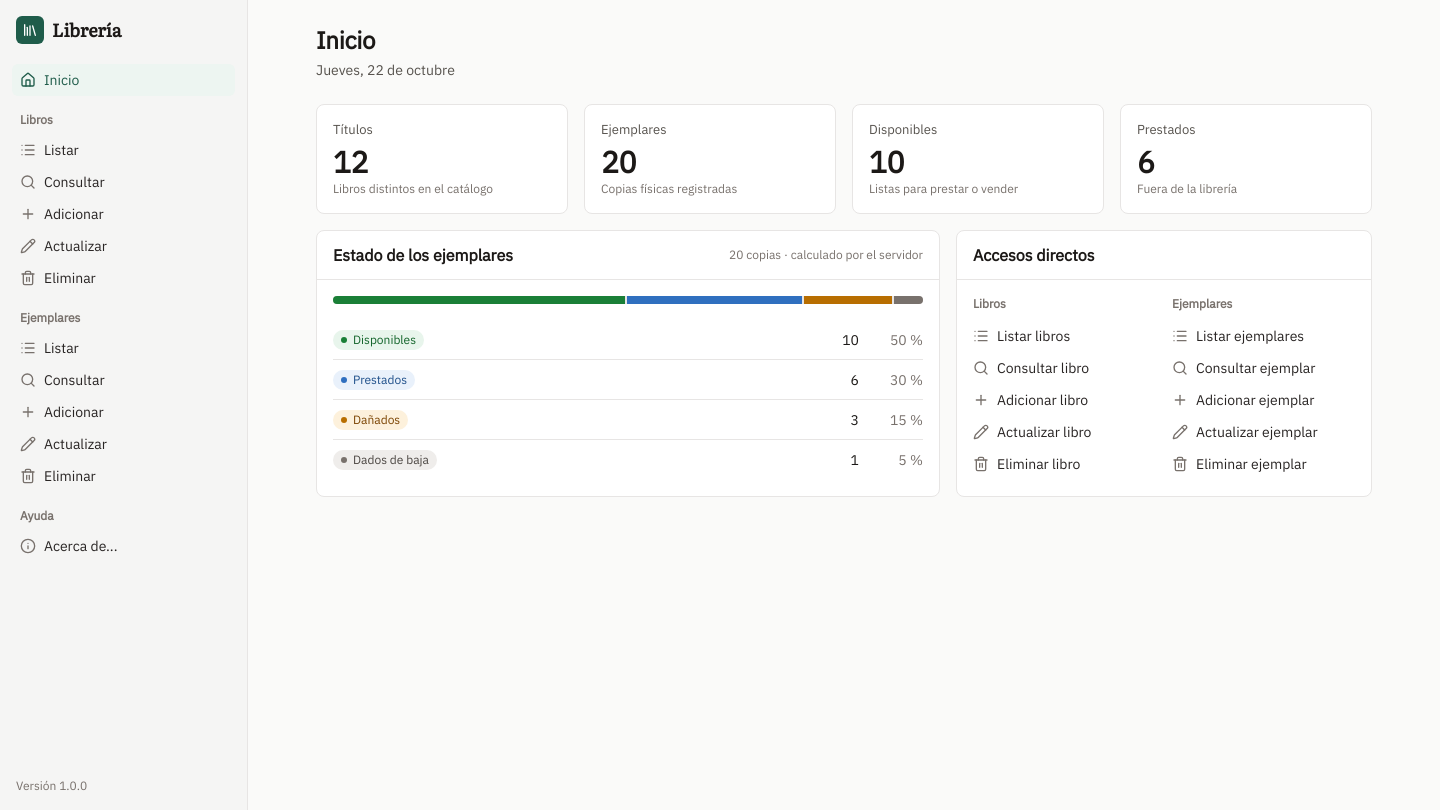
Scenario: Aplicación › tiene Ayuda > Acerca de... con los integrantes, la versión y el estado del servidor
Click the link "Acerca de..." at (69, 546), box [20,537,118,555]
(page scrolled)
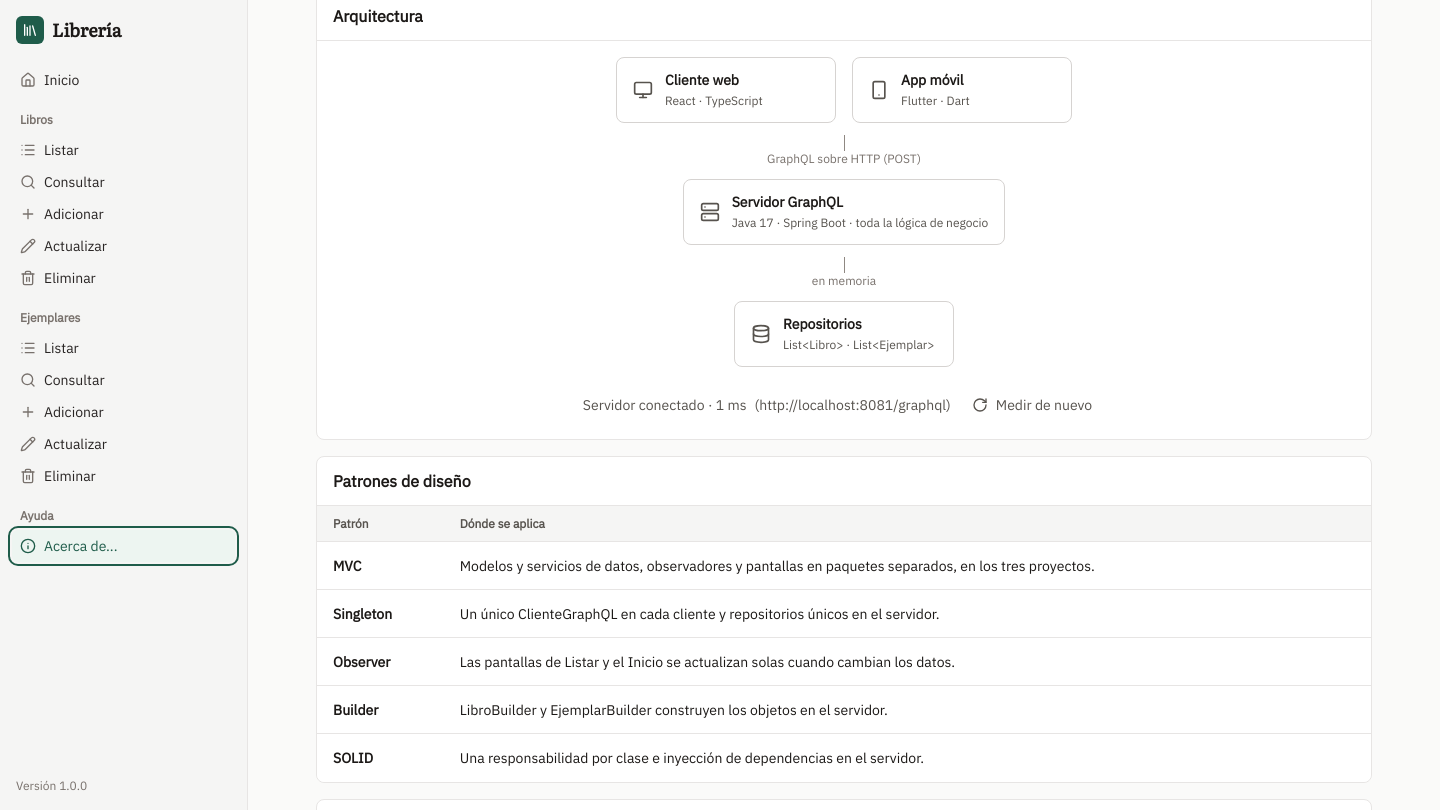
Check: the text "Servidor conectado · 1 ms" is shown, box [583,395,747,415]
Click the button "Medir de nuevo" at (1032, 405), box [959,387,1105,423]
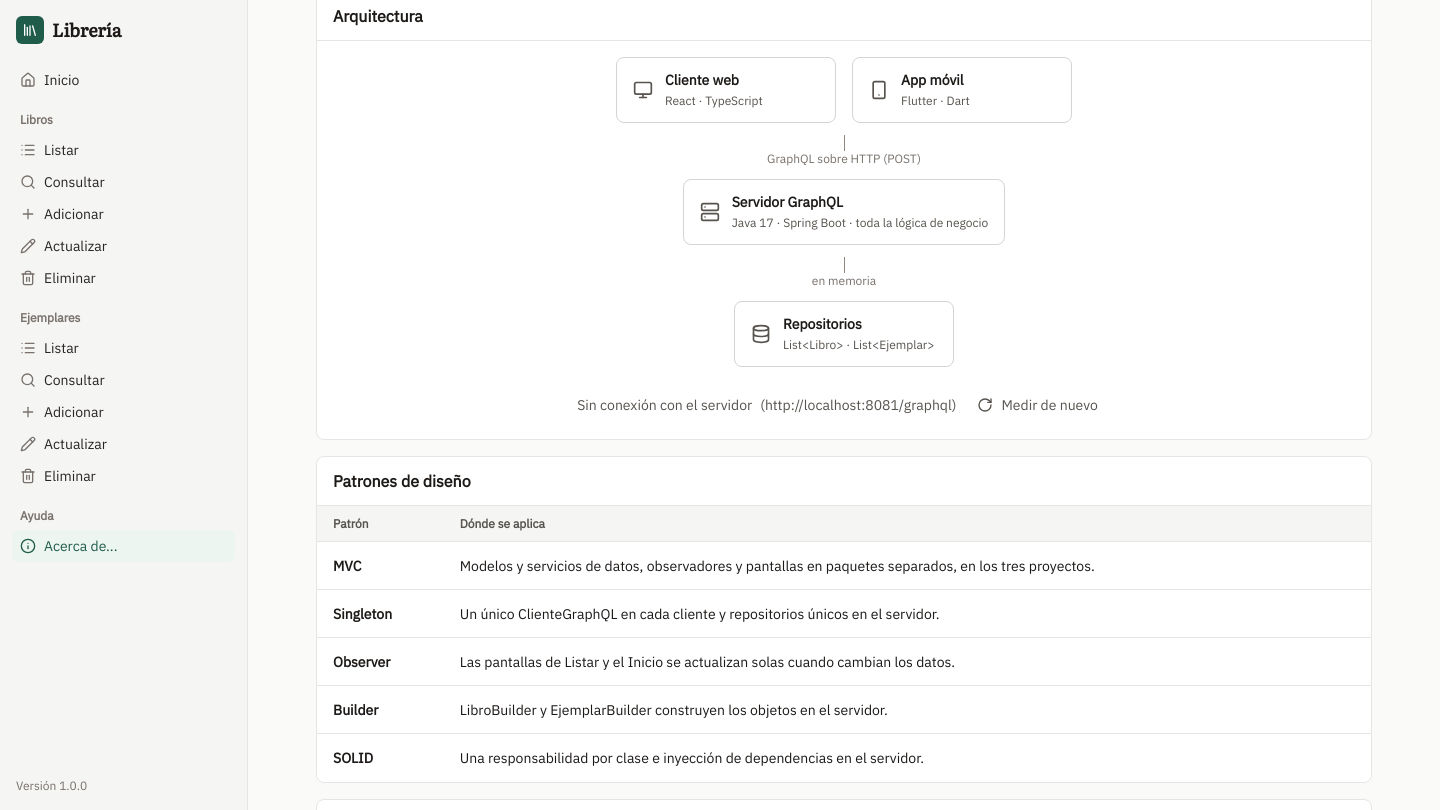
Check: the text "Sin conexión con el servidor" is shown, box [577,395,752,415]
